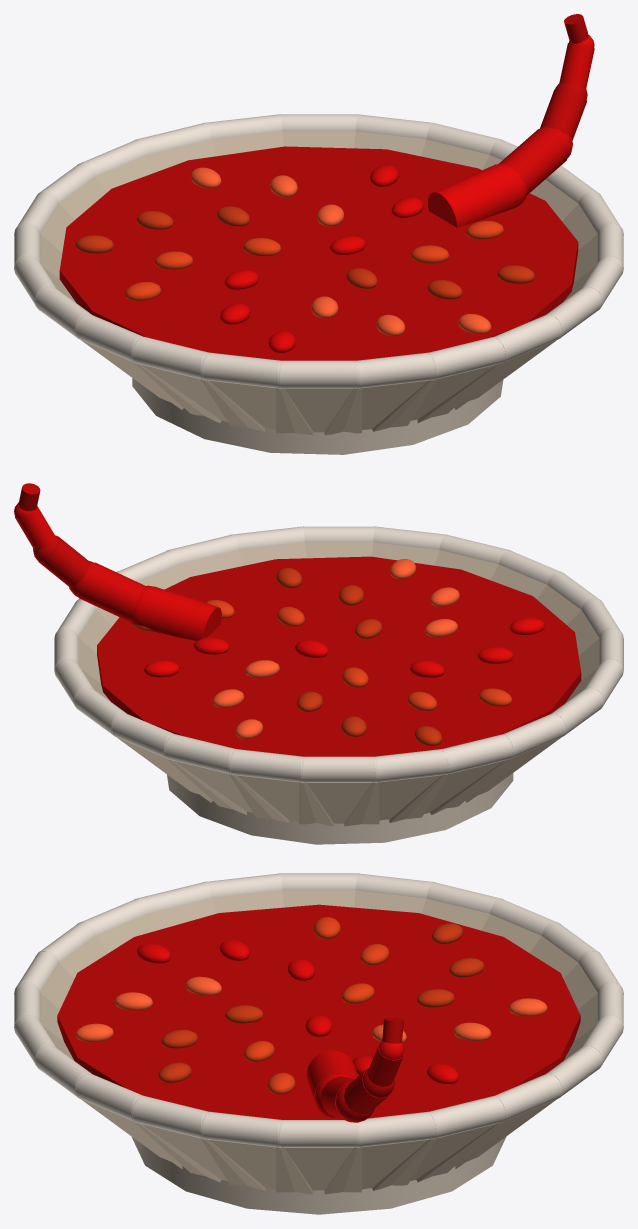
The model's file is CMU3DFoodSoupChiliHotCloud.glb.
The picture shows the model from 3 angles, top to bottom: view 1: azimuth 30°, elevation 25°; view 2: azimuth 150°, elevation 25°; view 3: azimuth 270°, elevation 25°; orthographic projection. The views are drawn at different scales.
Parts seen in each view (by area): view 1: hot chili liquid surface, closed ceramic basin floor, curved red chili pepper 1, flared hollow ceramic wall 17, flared hollow ceramic wall 16, flared hollow ceramic wall 18, curved red chili pepper 2, rolled ceramic rim 17, rolled ceramic rim 16, rolled ceramic rim 18, flared hollow ceramic wall 19, flared hollow ceramic wall 15 (+36 smaller); view 2: hot chili liquid surface, closed ceramic basin floor, curved red chili pepper 1, flared hollow ceramic wall 09, flared hollow ceramic wall 10, flared hollow ceramic wall 08, curved red chili pepper 2, rolled ceramic rim 09, rolled ceramic rim 10, rolled ceramic rim 08, flared hollow ceramic wall 07, flared hollow ceramic wall 11 (+43 smaller); view 3: hot chili liquid surface, closed ceramic basin floor, flared hollow ceramic wall 01, flared hollow ceramic wall 02, flared hollow ceramic wall 24, rolled ceramic rim 24, rolled ceramic rim 02, rolled ceramic rim 01, flared hollow ceramic wall 03, flared hollow ceramic wall 23, rolled ceramic rim 03, rolled ceramic rim 23 (+61 smaller).
Boxes of the visible parts, bbox=[...] form: hot chili liquid surface: bbox=[59, 146, 578, 360]; closed ceramic basin floor: bbox=[132, 378, 503, 454]; curved red chili pepper 1: bbox=[428, 164, 518, 227]; flared hollow ceramic wall 17: bbox=[276, 388, 361, 433]; flared hollow ceramic wall 16: bbox=[201, 379, 313, 435]; flared hollow ceramic wall 18: bbox=[324, 379, 436, 435]; curved red chili pepper 2: bbox=[499, 128, 567, 195]; rolled ceramic rim 17: bbox=[278, 360, 359, 388]; rolled ceramic rim 16: bbox=[200, 352, 282, 388]; rolled ceramic rim 18: bbox=[355, 352, 437, 388]; flared hollow ceramic wall 19: bbox=[372, 362, 503, 431]; flared hollow ceramic wall 15: bbox=[134, 362, 264, 431]; hot chili liquid surface: bbox=[97, 556, 581, 756]; closed ceramic basin floor: bbox=[167, 773, 513, 844]; curved red chili pepper 1: bbox=[138, 586, 221, 640]; flared hollow ceramic wall 09: bbox=[299, 782, 379, 824]; flared hollow ceramic wall 10: bbox=[344, 774, 449, 826]; flared hollow ceramic wall 08: bbox=[229, 774, 333, 826]; curved red chili pepper 2: bbox=[78, 562, 145, 621]; rolled ceramic rim 09: bbox=[301, 756, 377, 782]; rolled ceramic rim 10: bbox=[373, 749, 449, 782]; rolled ceramic rim 08: bbox=[228, 749, 305, 782]; flared hollow ceramic wall 07: bbox=[166, 758, 289, 822]; flared hollow ceramic wall 11: bbox=[389, 758, 511, 822]; hot chili liquid surface: bbox=[57, 904, 580, 1119]; closed ceramic basin floor: bbox=[131, 1136, 506, 1214]; flared hollow ceramic wall 01: bbox=[276, 1147, 361, 1192]; flared hollow ceramic wall 02: bbox=[324, 1138, 437, 1194]; flared hollow ceramic wall 24: bbox=[200, 1138, 313, 1194]; rolled ceramic rim 24: bbox=[200, 1111, 282, 1147]; rolled ceramic rim 02: bbox=[356, 1111, 437, 1147]; rolled ceramic rim 01: bbox=[278, 1120, 359, 1147]; flared hollow ceramic wall 03: bbox=[372, 1122, 503, 1190]; flared hollow ceramic wall 23: bbox=[134, 1122, 265, 1190]; rolled ceramic rim 03: bbox=[429, 1095, 506, 1139]; rolled ceramic rim 23: bbox=[131, 1095, 208, 1139].
Bounding box in the file's own units: 0.7962 × 0.3631 × 0.7324.
